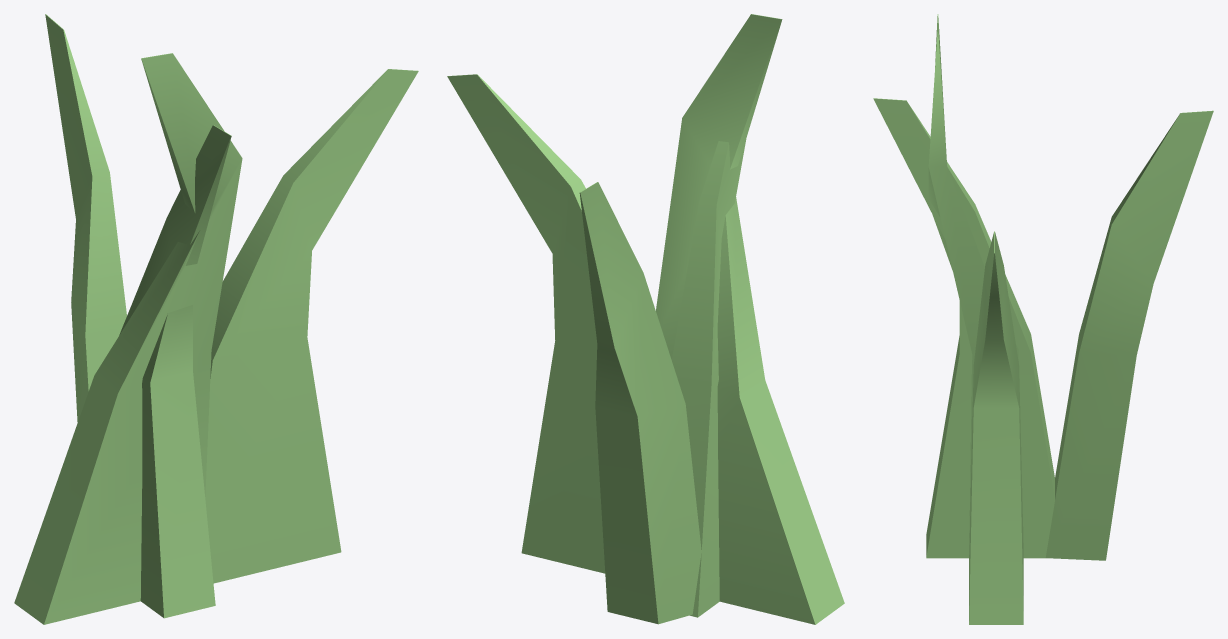
File: grass4.fbx
3 views of the same model, side by side, from view 1: azimuth 30°, elevation 25°; view 2: azimuth 150°, elevation 25°; view 3: azimuth 270°, elevation 25° (orthographic). The views are drawn at different scales.
Parts seen in each view (by area): view 1: pCube75; view 2: pCube75; view 3: pCube75.
Part boxes in pixels (<box>): pCube75: <box>14,14,418,624</box>; pCube75: <box>447,14,844,624</box>; pCube75: <box>873,14,1213,624</box>.
Size of the model in its own units: 1.84 by 2.53 by 1.52.
